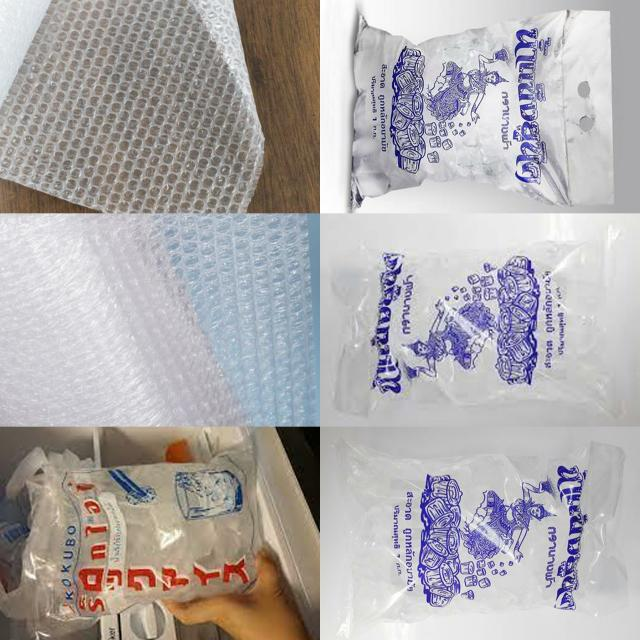Single-layer Plastic: (0, 214, 319, 426), (1, 0, 264, 212), (330, 238, 624, 417), (340, 441, 628, 621), (352, 11, 613, 205), (1, 434, 255, 622)
